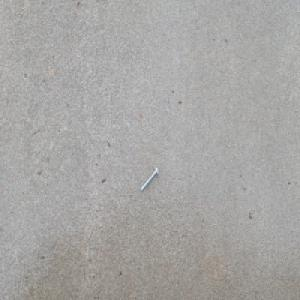Nail: (139, 165, 158, 193)
